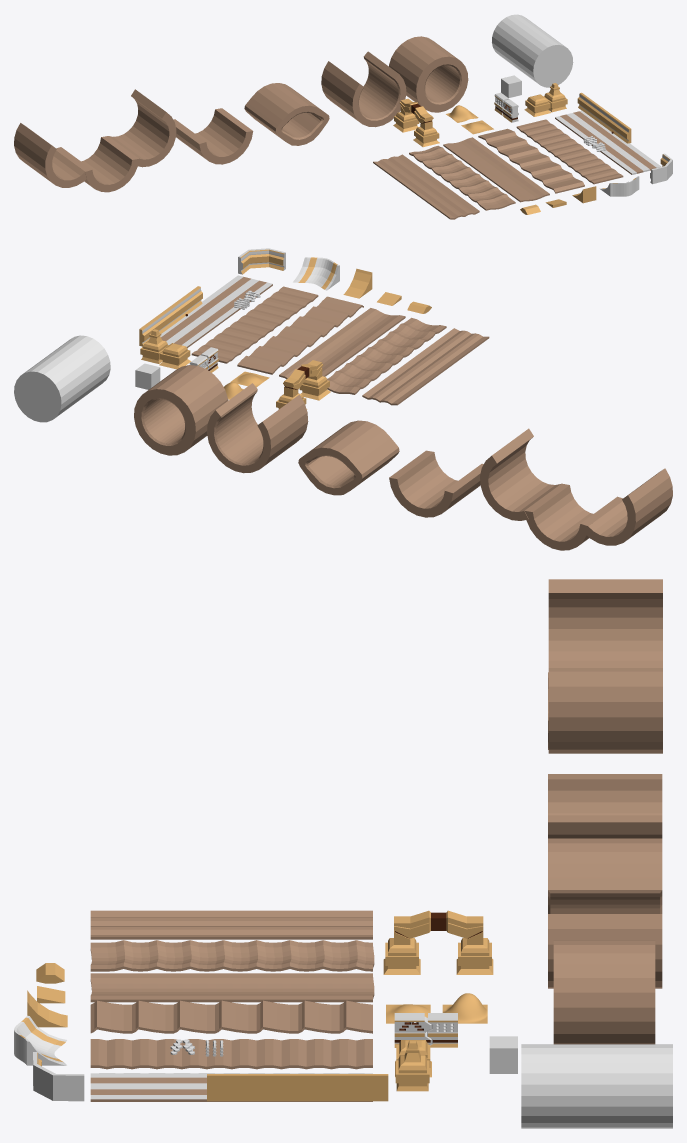
File: Muro90grados.fbx
3 renders of one model, top to bottom at view 1: azimuth 30°, elevation 25°; view 2: azimuth 150°, elevation 25°; view 3: azimuth 270°, elevation 25°, orthographic. The views are drawn at different scales.
Parts seen in each view (by area): view 1: Cylinder.004, Cylinder.001, Cylinder.002, Cylinder.003, Cylinder.006, Cylinder.005, Cube.015, Cube.013, Cube.014, Cube.012, Cube.016, Cylinder.007 (+9 smaller); view 2: Cylinder.004, Cylinder.001, Cylinder.002, Cylinder.003, Cylinder.006, Cylinder.005, Cube.013, Cube.016, Cube.015, Cube.012, Cylinder.008, Cylinder.007 (+10 smaller); view 3: Cylinder.002, Cylinder.004, Cylinder.008, Cylinder.006, Cube.016, Cube.015, Cube.014, Cube.013, Cube.012, Cylinder.001, Cylinder.005, Cube.020 (+11 smaller).
Boxes of the visible parts, x1=… form: Cylinder.004: x1=389, y1=36, x2=468, y2=112; Cylinder.001: x1=321, y1=51, x2=406, y2=127; Cylinder.002: x1=492, y1=14, x2=573, y2=87; Cylinder.003: x1=244, y1=83, x2=329, y2=145; Cylinder.006: x1=108, y1=89, x2=176, y2=167; Cylinder.005: x1=173, y1=108, x2=253, y2=164; Cube.015: x1=409, y1=145, x2=515, y2=210; Cube.013: x1=478, y1=128, x2=584, y2=193; Cube.014: x1=443, y1=137, x2=549, y2=202; Cube.012: x1=516, y1=119, x2=623, y2=184; Cube.016: x1=373, y1=154, x2=479, y2=219; Cylinder.007: x1=56, y1=136, x2=139, y2=192; Cylinder.004: x1=134, y1=365, x2=228, y2=455; Cylinder.001: x1=207, y1=383, x2=308, y2=473; Cylinder.002: x1=14, y1=335, x2=110, y2=422; Cylinder.003: x1=298, y1=420, x2=399, y2=495; Cylinder.006: x1=480, y1=428, x2=560, y2=520; Cylinder.005: x1=389, y1=450, x2=483, y2=517; Cube.013: x1=237, y1=296, x2=363, y2=374; Cube.016: x1=362, y1=328, x2=489, y2=405; Cube.015: x1=327, y1=317, x2=446, y2=394; Cube.012: x1=191, y1=286, x2=318, y2=363; Cylinder.008: x1=583, y1=468, x2=672, y2=545; Cylinder.007: x1=525, y1=483, x2=622, y2=550; Cylinder.002: x1=521, y1=1044, x2=672, y2=1128; Cylinder.004: x1=553, y1=940, x2=655, y2=1044; Cylinder.008: x1=548, y1=579, x2=662, y2=671; Cylinder.006: x1=548, y1=671, x2=662, y2=753; Cube.016: x1=90, y1=910, x2=372, y2=939; Cube.015: x1=90, y1=940, x2=374, y2=971; Cube.014: x1=90, y1=973, x2=374, y2=1002; Cube.013: x1=90, y1=1000, x2=372, y2=1033; Cube.012: x1=90, y1=1039, x2=372, y2=1069; Cylinder.001: x1=548, y1=878, x2=662, y2=988; Cylinder.005: x1=548, y1=774, x2=662, y2=838; Cube.020: x1=207, y1=1074, x2=388, y2=1101.
Size of the model in its own units: 7782 by 978 by 4661.
